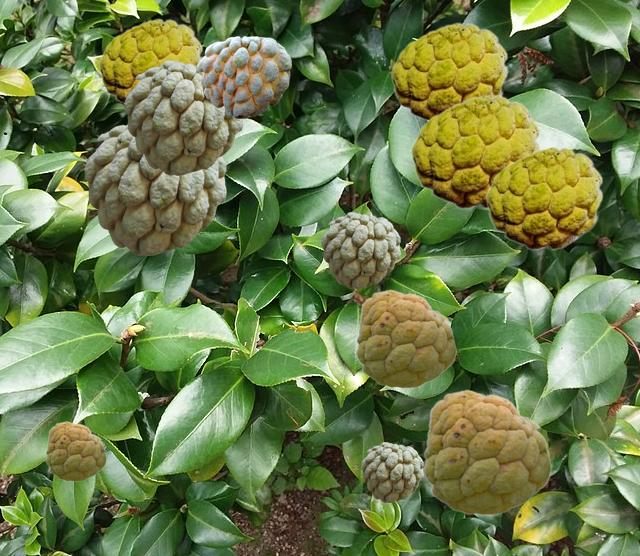atis: (84, 124, 225, 254), (422, 389, 550, 514), (410, 94, 540, 208), (124, 60, 242, 174), (485, 146, 602, 249), (390, 22, 507, 120), (355, 289, 455, 387), (98, 18, 202, 104), (197, 36, 290, 117), (321, 212, 399, 287), (361, 442, 422, 501), (45, 421, 105, 480)
